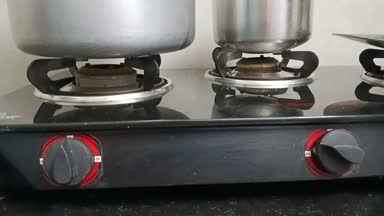noflame_gason: (19, 49, 169, 188), (213, 45, 365, 182)
